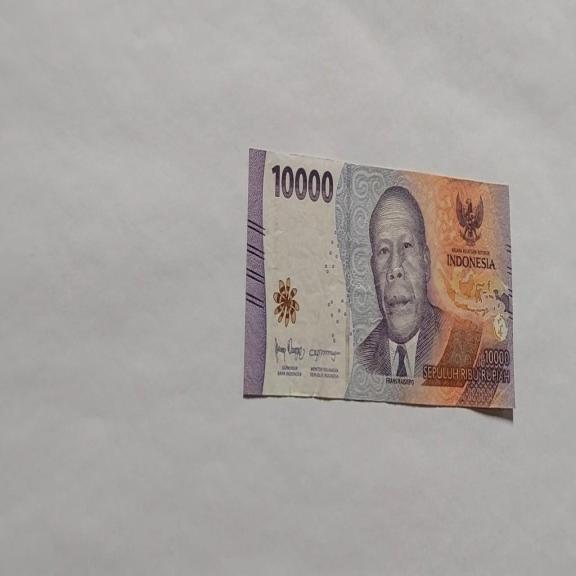Kertas: (243, 146, 514, 414)
